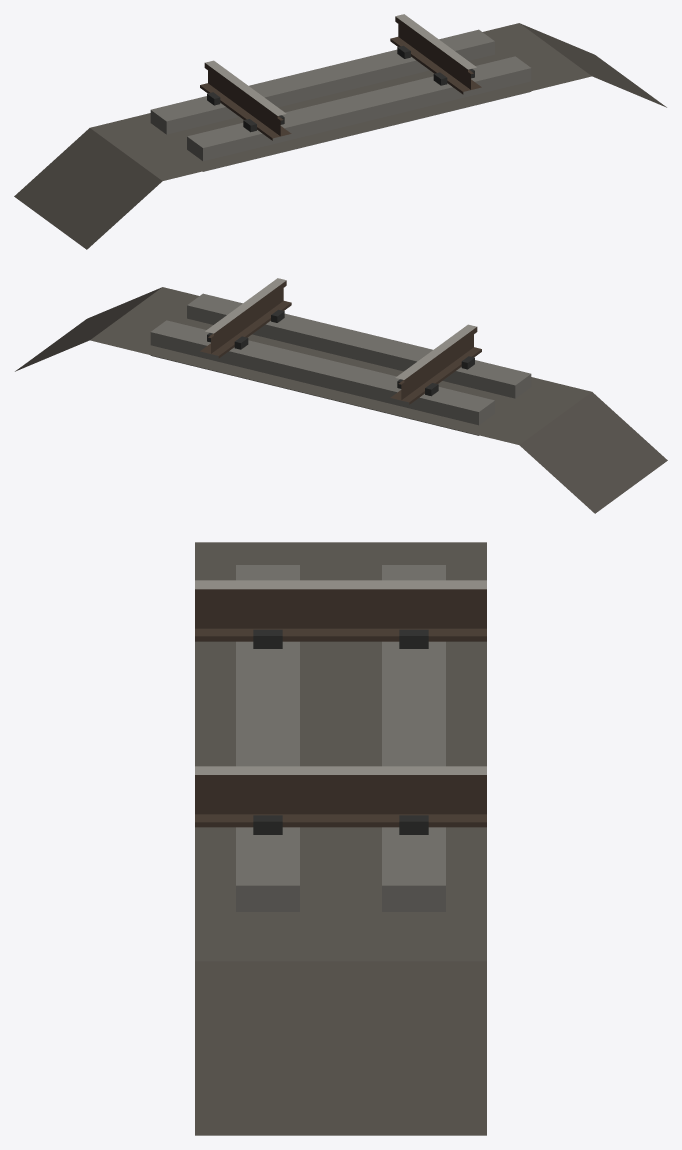
File: tor-kafel-1m.glb
3 renders of one model, top to bottom at view 1: azimuth 30°, elevation 25°; view 2: azimuth 150°, elevation 25°; view 3: azimuth 270°, elevation 25°, orthographic. The views are drawn at different scales.
Parts seen in each view (by area): view 1: tor-kafel-1m; view 2: tor-kafel-1m; view 3: tor-kafel-1m.
Part boxes in pixels (x1=…): tor-kafel-1m: x1=14, y1=14, x2=666, y2=249; tor-kafel-1m: x1=15, y1=278, x2=667, y2=513; tor-kafel-1m: x1=195, y1=542, x2=486, y2=1135.
Bounding box in the file's own units: 4.6 × 0.66 × 1.
